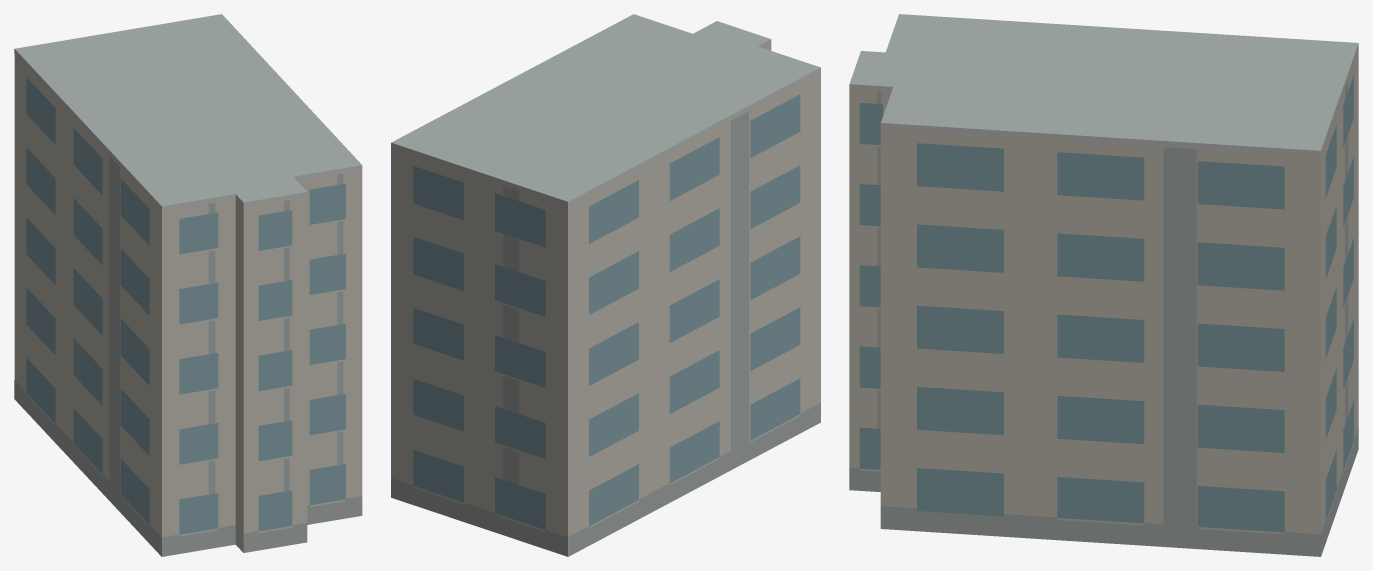
The model's file is survey-upis-32750940.glb.
The picture shows the model from 3 angles, left to right: view 1: azimuth 30°, elevation 25°; view 2: azimuth 150°, elevation 25°; view 3: azimuth 270°, elevation 25°; orthographic projection. The views are drawn at different scales.
Visible parts, largest first — view 1: survey-upis-32750940.tmp; view 2: survey-upis-32750940.tmp; view 3: survey-upis-32750940.tmp.
Part boxes in pixels (x1=…): survey-upis-32750940.tmp: x1=14, y1=14, x2=362, y2=556; survey-upis-32750940.tmp: x1=391, y1=14, x2=820, y2=556; survey-upis-32750940.tmp: x1=849, y1=14, x2=1358, y2=556.
Bounding box in the file's own units: 11.65 × 16.1 × 18.31.
